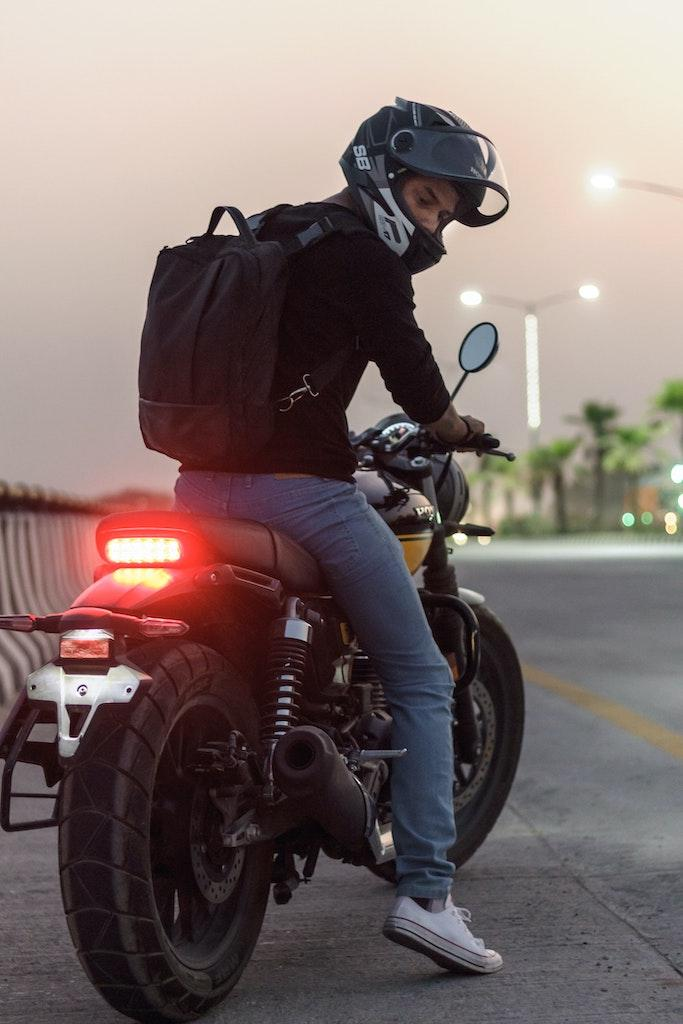helmet: (337, 94, 511, 278)
